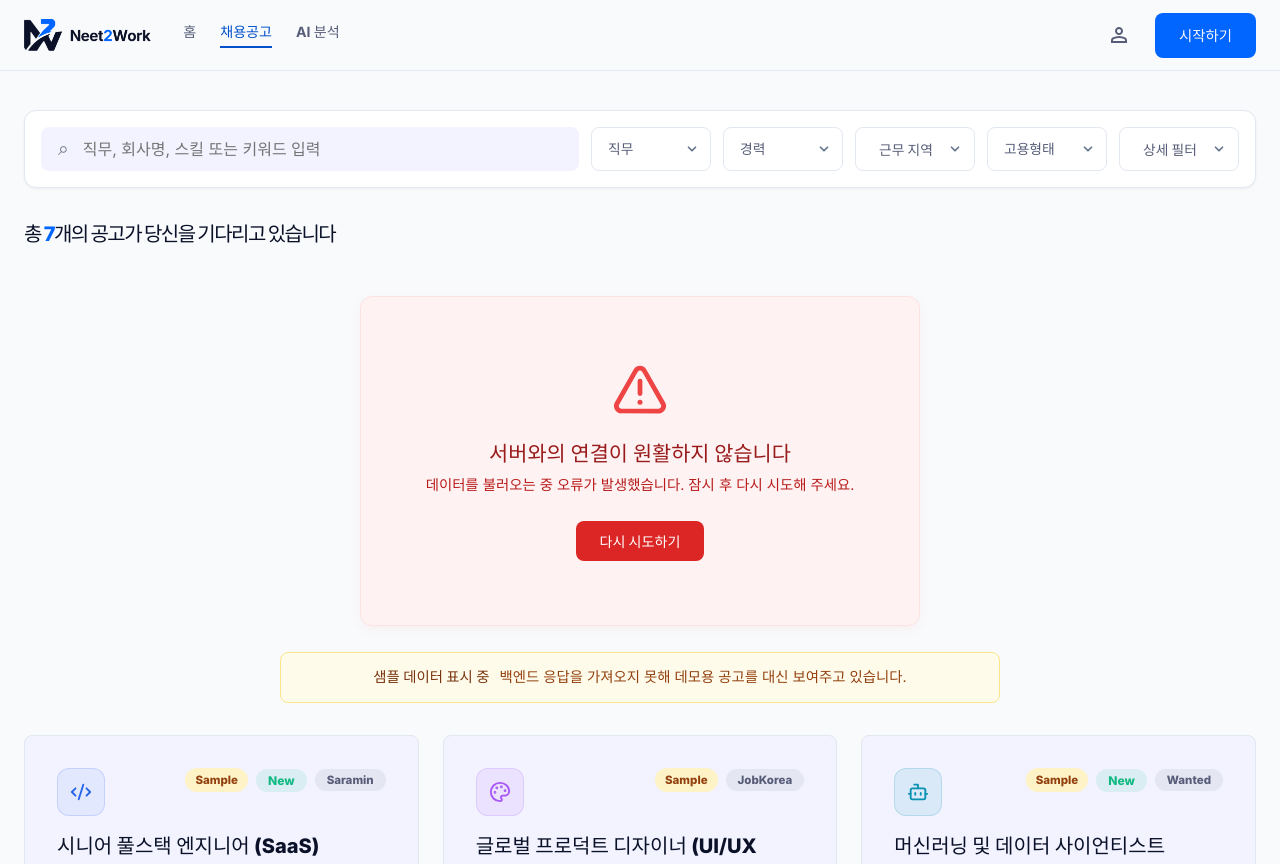
Test: Jobs page backend integration › keeps the demo fallback visible on API failure and retries the request on demand
Expected: the heading "시니어 풀스택 엔지니어 (SaaS)" is shown, [57, 834, 319, 858]
Expected: the message "서버와의 연결이 원활하지 않습니다 데이터를 불러오는 중 오류가 발생했습니다. 잠시 후 다시 시도해 주세요. 다시 시도하기" is shown, [360, 296, 920, 626]
Click the button "다시 시도하기" at (640, 541), box [576, 521, 704, 561]
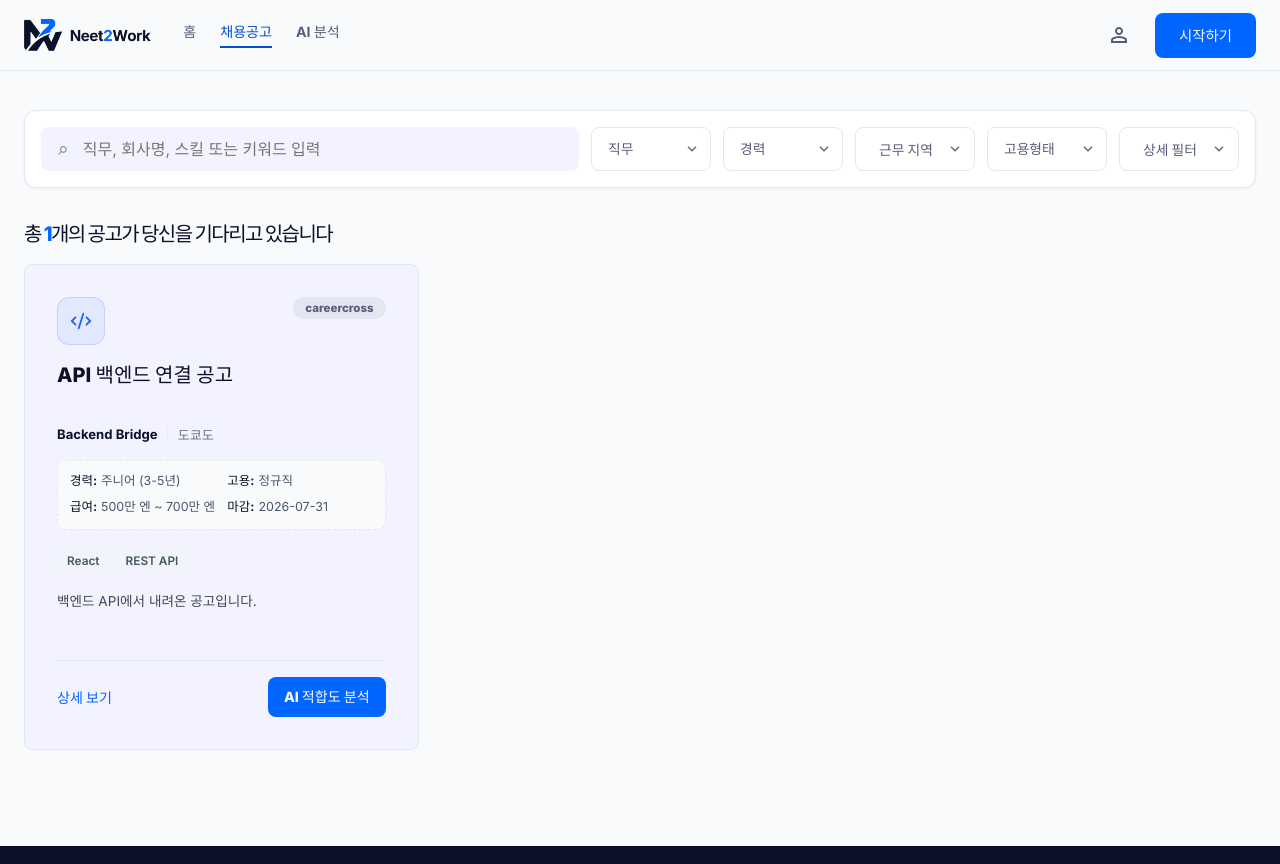
Result: the heading "API 백엔드 연결 공고" is shown at [57, 363, 233, 387]
Result: the message "서버와의 연결이 원활하지 않습니다 데이터를 불러오는 중 오류가 발생했습니다. 잠시 후 다시 시도해 주세요. 다시 시도하기" is gone
